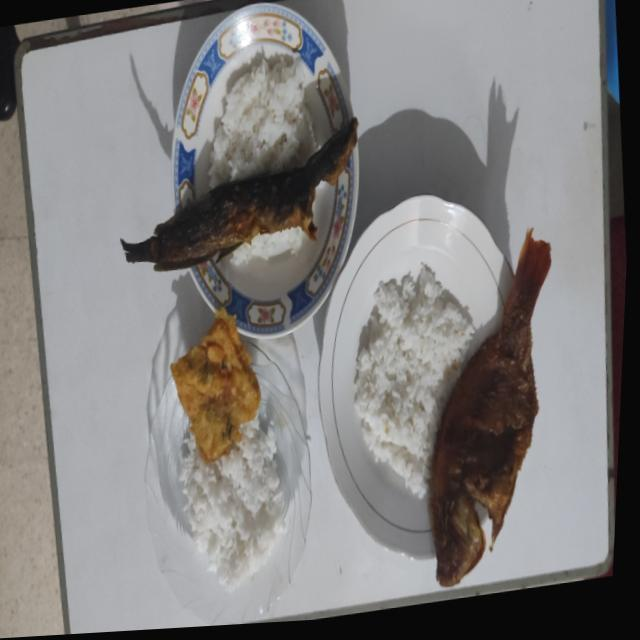ikan_mujair: (428, 228, 550, 586)
nasi_putih: (354, 264, 474, 498), (182, 417, 284, 588), (208, 52, 318, 188), (233, 228, 303, 265)
